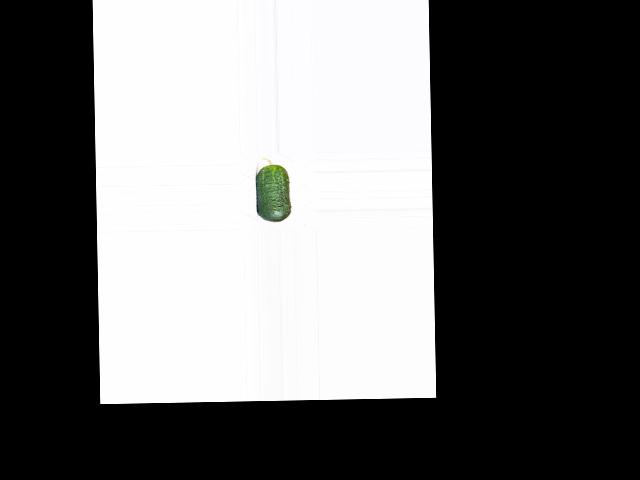cucumber: (255, 157, 290, 222)
